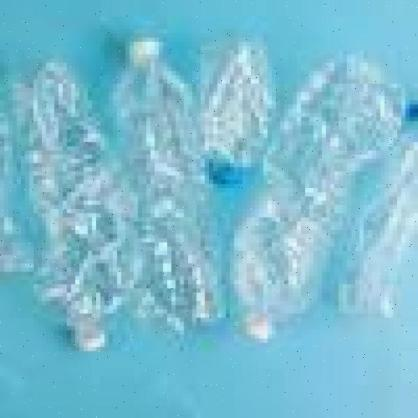bottle: (226, 60, 404, 350), (21, 56, 140, 366), (115, 37, 215, 333), (332, 100, 418, 330), (196, 37, 273, 193)
cap: (212, 167, 248, 199), (121, 39, 164, 64), (242, 318, 273, 344), (77, 331, 107, 354)
